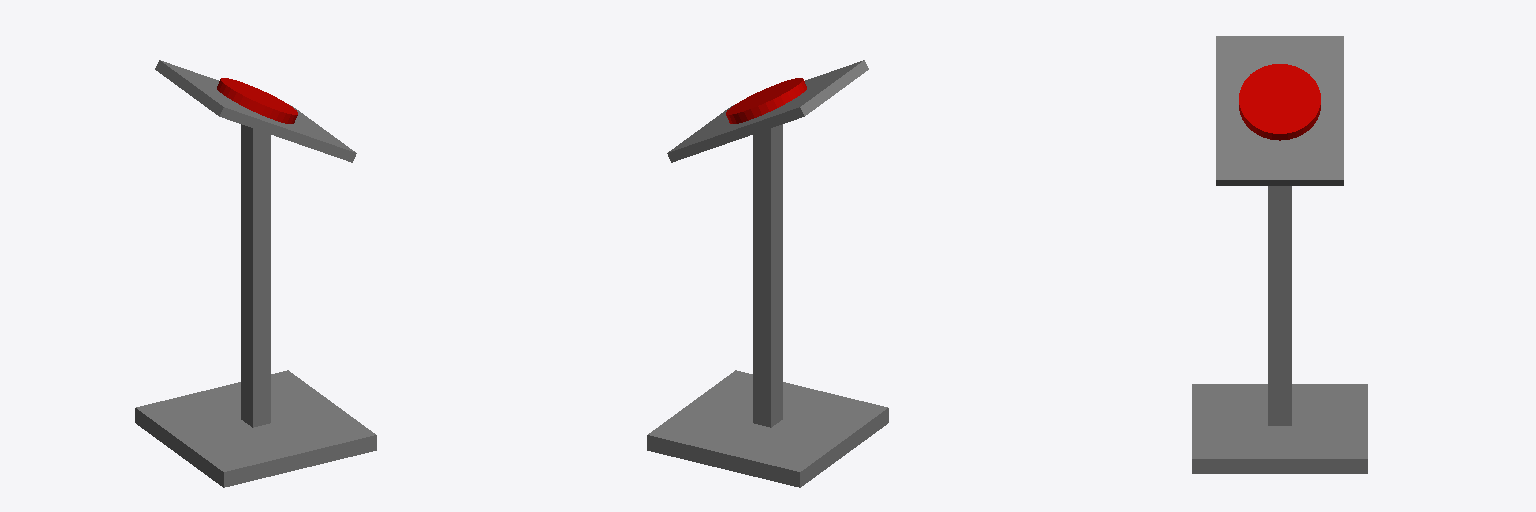
File: button.obj
3 renders of one model, left to right at view 1: azimuth 30°, elevation 25°; view 2: azimuth 150°, elevation 25°; view 3: azimuth 270°, elevation 25°, orthographic.
Visible parts, largest first — view 1: Cube.002, Cylinder; view 2: Cube.002, Cylinder; view 3: Cube.002, Cylinder.
Part boxes in pixels (x1,y1,x2,y2): Cube.002: (135, 60, 376, 487); Cylinder: (217, 78, 297, 123); Cube.002: (647, 60, 888, 487); Cylinder: (726, 78, 806, 123); Cube.002: (1192, 36, 1367, 473); Cylinder: (1239, 64, 1320, 140).
Bounding box in the file's own units: 2 × 4.7 × 2.